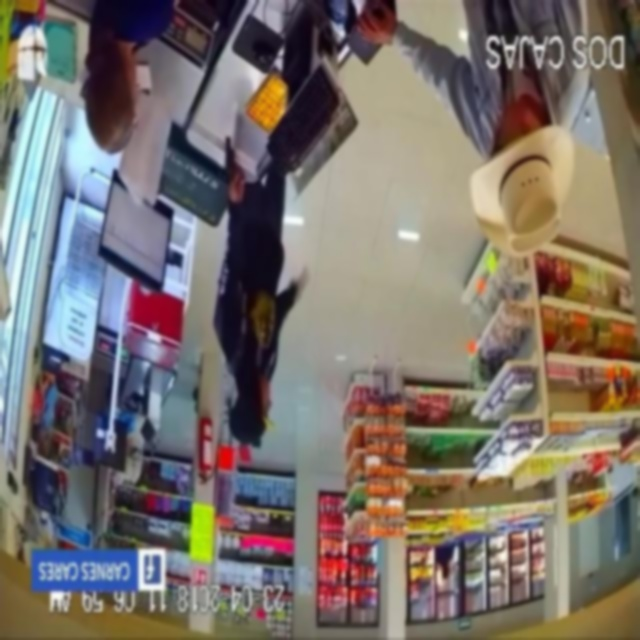gun: (215, 125, 245, 195)
